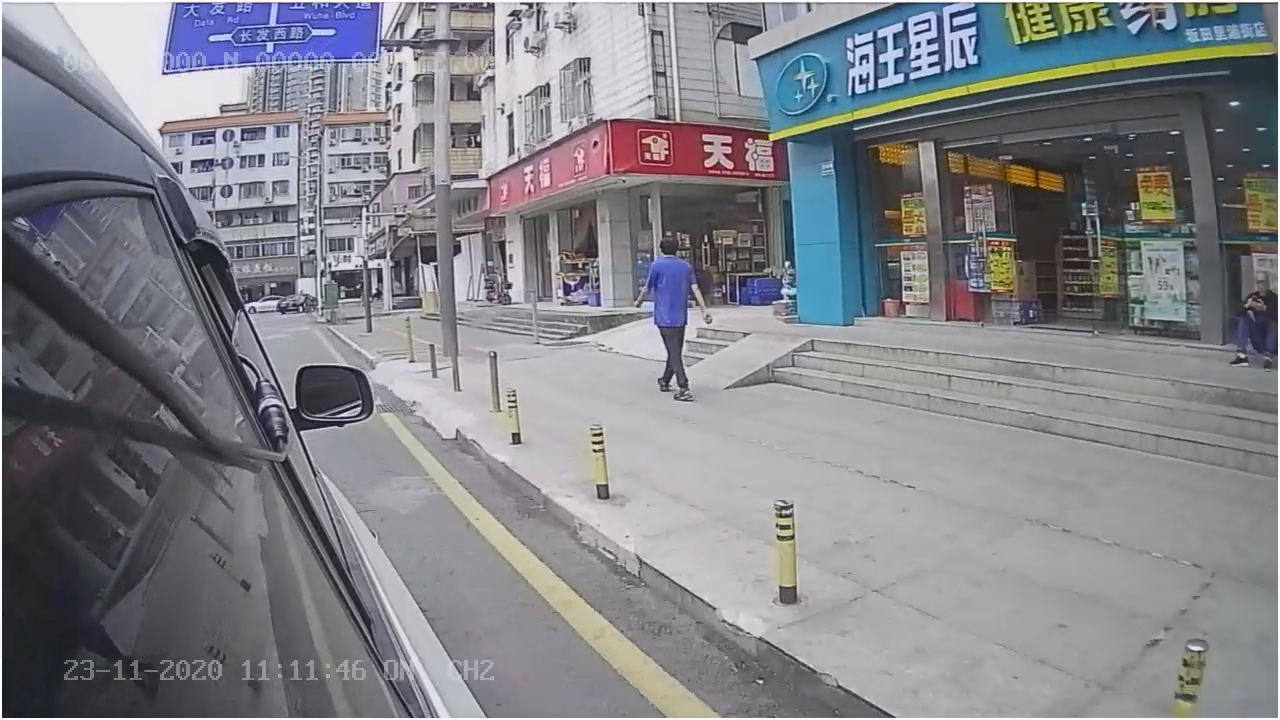person: (630, 236, 718, 410)
